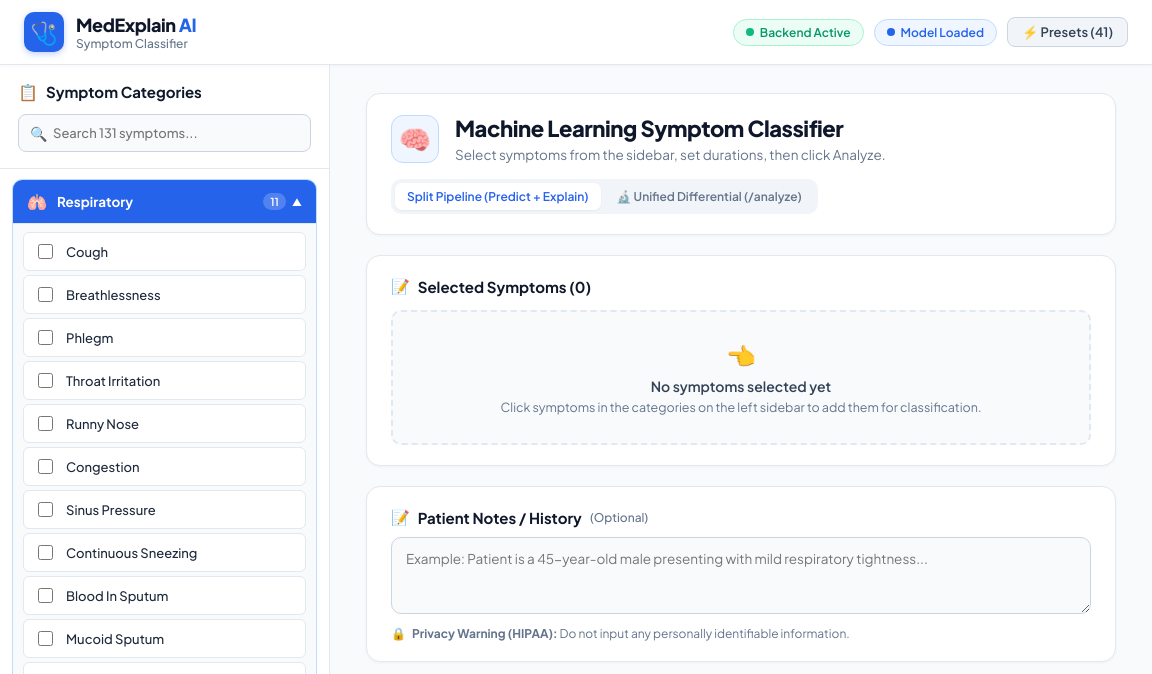
Test: MedExplain Frontend Integration & Safety Tests › should display a prominent emergency warning banner when predicted condition is Stroke
This screenshot has width=1152, height=674.
What coordinates should you click on to do the following:
click the text "Cough"
I would click on:
 (87, 252)
Its box is [66,244,108,260].
(page scrolled)
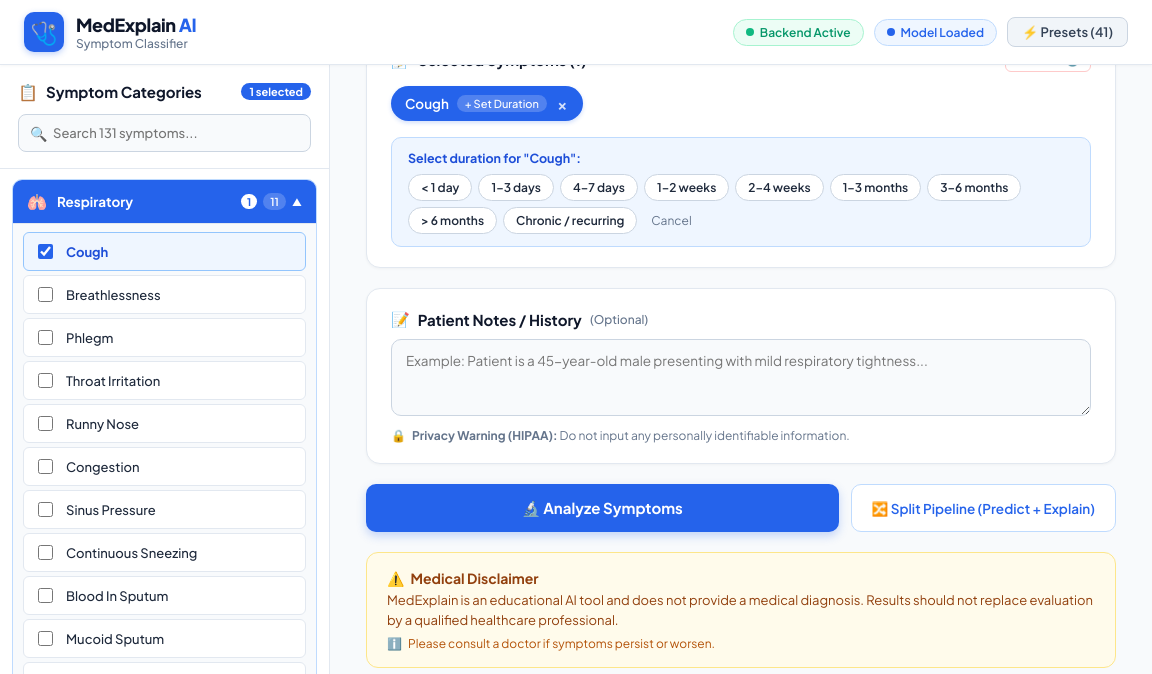
What coordinates should you click on to do the following:
click the button "🔬 Analyze Symptoms"
I would click on:
 (602, 508)
Its box is [366,484,839,532].
(page scrolled)
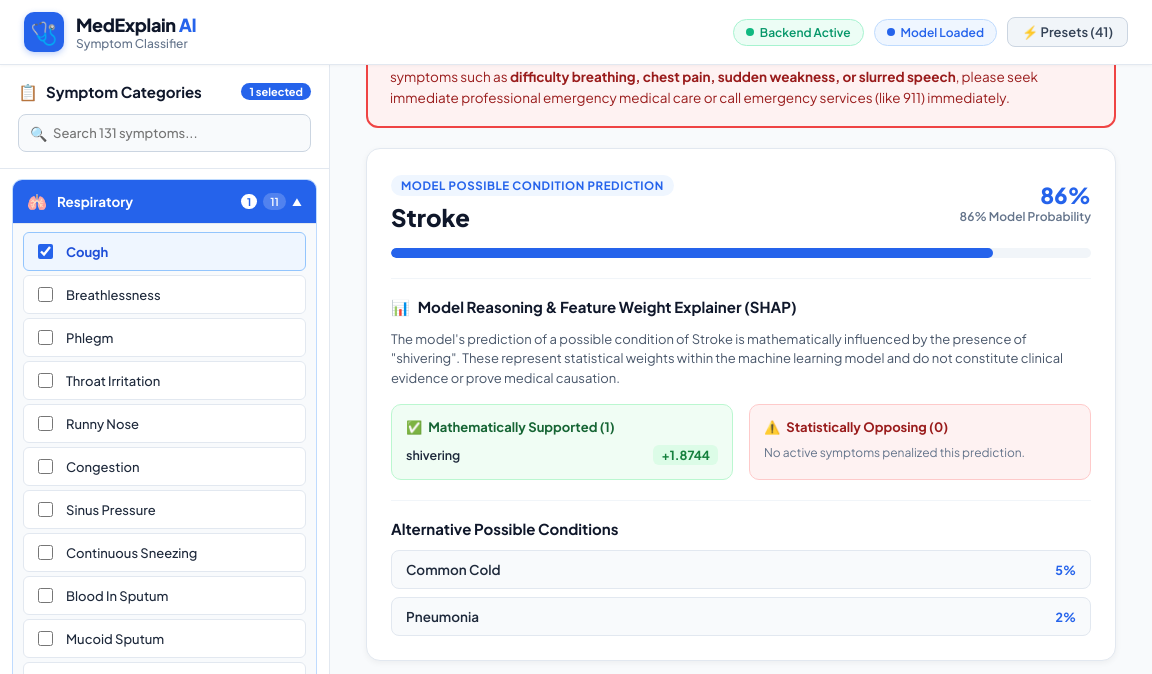
expect the text "difficulty breathing, chest pain, sudden weakness, or slurred speech" is shown: met, box [510,68,956,85]
